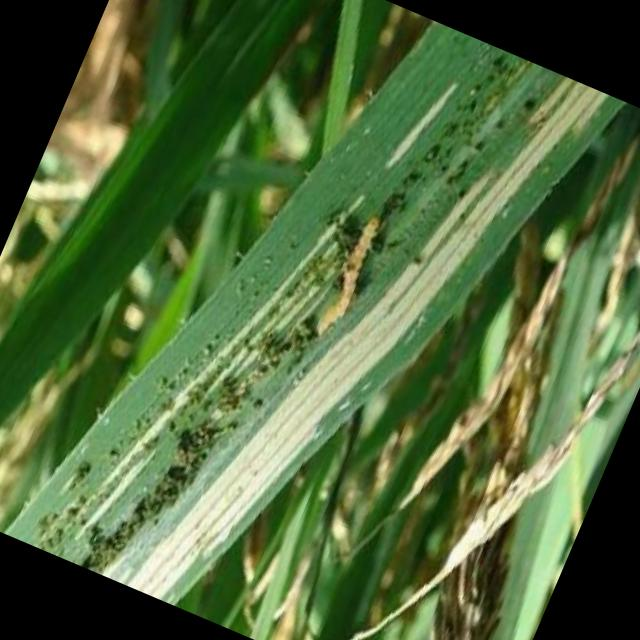leaf-folder: (284, 188, 403, 361)
